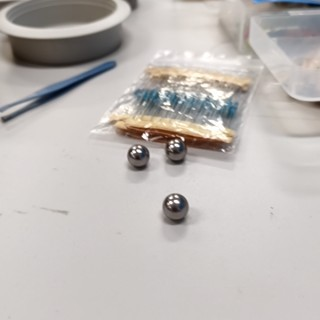ironball: (119, 132, 157, 178), (156, 185, 196, 226), (157, 127, 189, 168)
